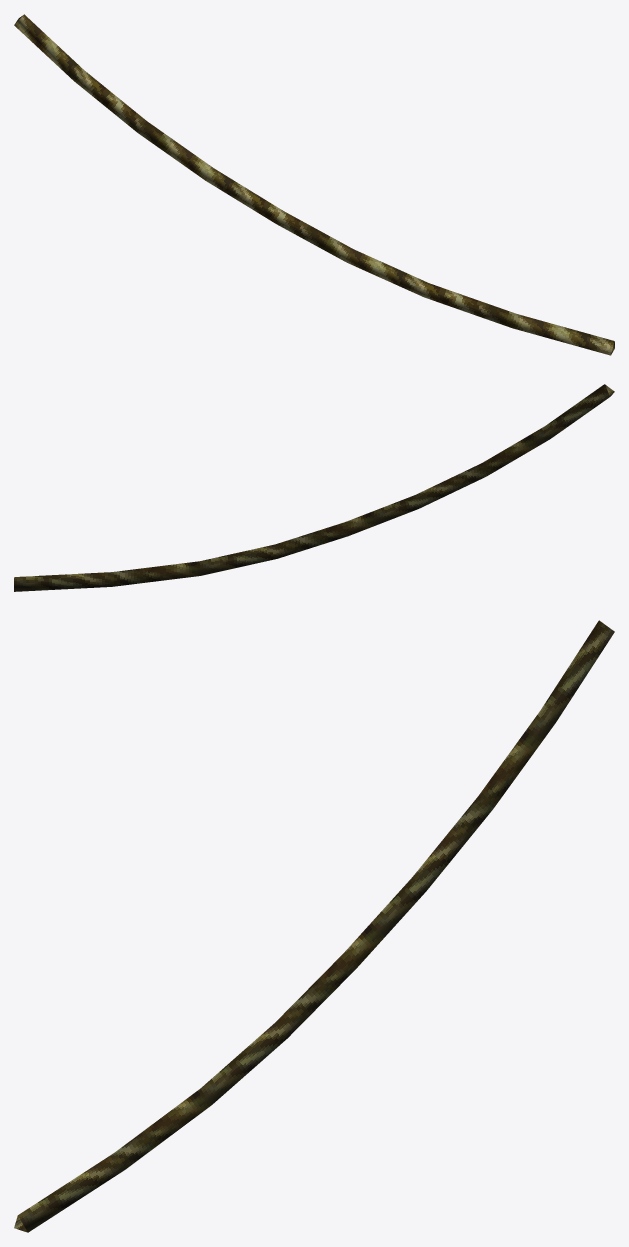
Rendered from OVERHILL_A_01_BRIDGE_ROPE_12.fbx.
3 views of the same model, one above another, from view 1: azimuth 30°, elevation 25°; view 2: azimuth 210°, elevation 25°; view 3: azimuth 270°, elevation 25° (orthographic). The views are drawn at different scales.
Parts seen in each view (by area): view 1: OVERHILL_A_01_BRIDGE_ROPE_12; view 2: OVERHILL_A_01_BRIDGE_ROPE_12; view 3: OVERHILL_A_01_BRIDGE_ROPE_12.
Part boxes in pixels (<box>): OVERHILL_A_01_BRIDGE_ROPE_12: <box>14,14,614,355</box>; OVERHILL_A_01_BRIDGE_ROPE_12: <box>14,384,614,591</box>; OVERHILL_A_01_BRIDGE_ROPE_12: <box>14,620,614,1232</box>.
Bounding box in the file's own units: 14375 × 9640 × 14350.
1 material, 1 textured.
